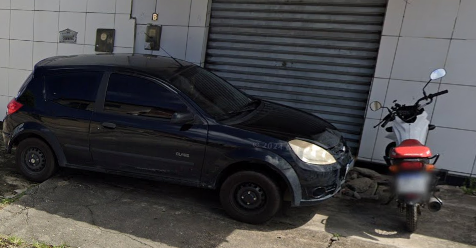car: (3, 32, 356, 226)
